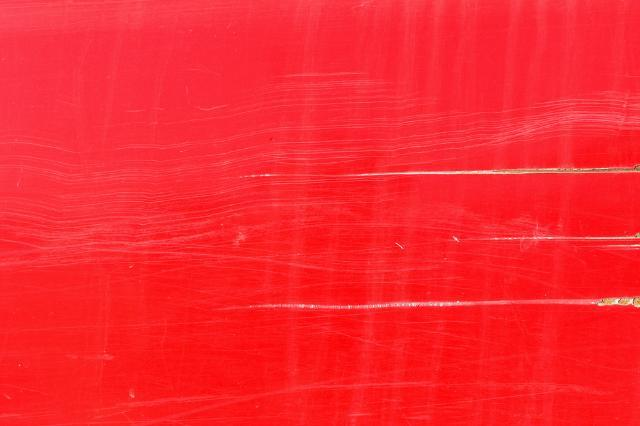scratch: (0, 28, 640, 426)
